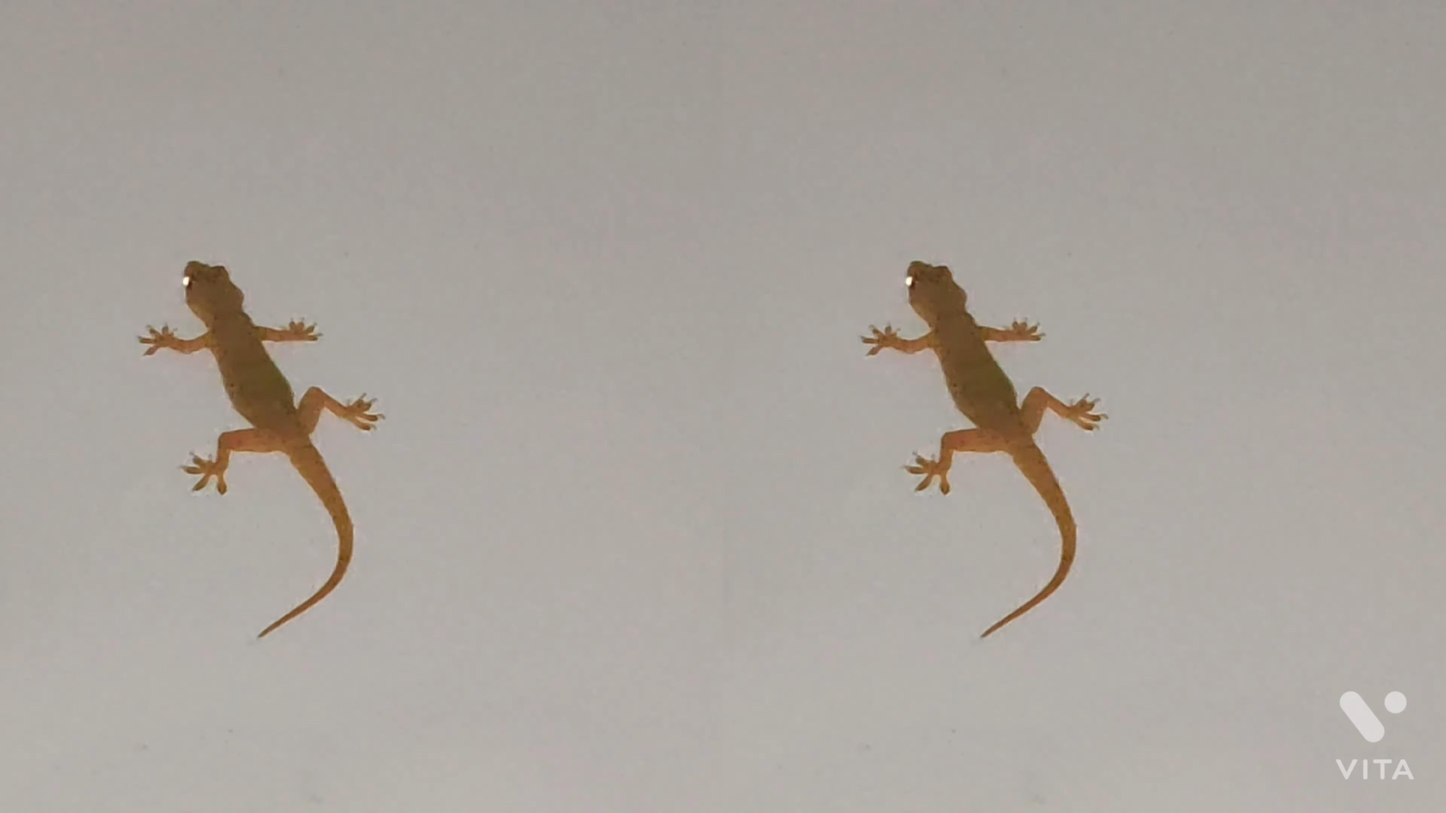lizard: (130, 256, 397, 643), (857, 252, 1110, 644)
